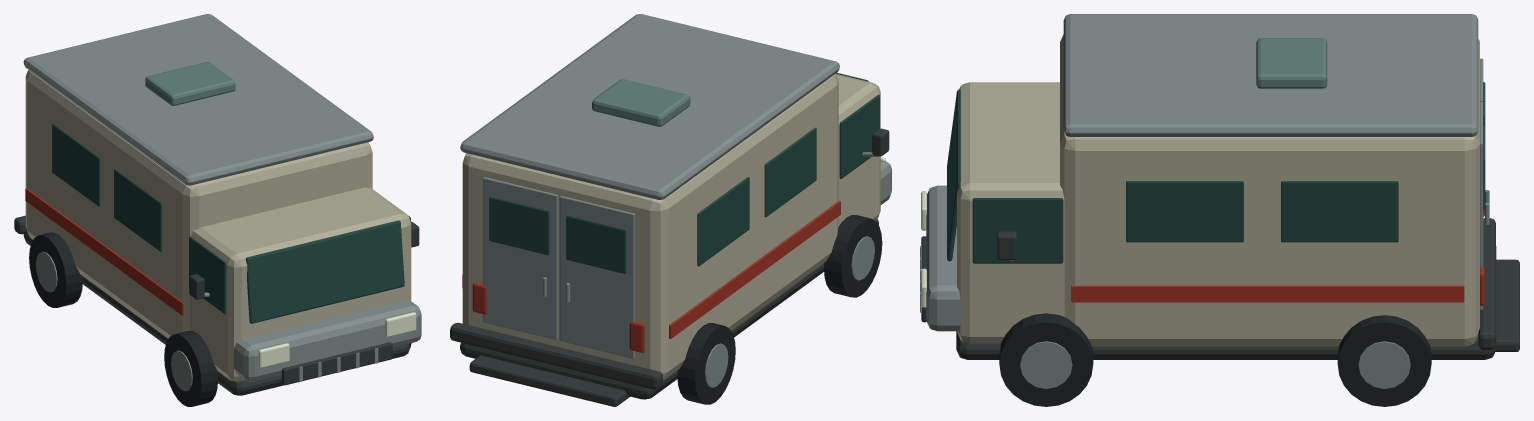
Rendered from H_CrewRV.fbx.
3 renders of one model, left to right at view 1: azimuth 30°, elevation 25°; view 2: azimuth 150°, elevation 25°; view 3: azimuth 270°, elevation 25°, orthographic. The views are drawn at different scales.
Visible parts, largest first — view 1: H_CrewRV; view 2: H_CrewRV; view 3: H_CrewRV.
Boxes of the visible parts, x1,y1,x2,y2 form: H_CrewRV: (14,14,421,406); H_CrewRV: (450,14,891,406); H_CrewRV: (920,14,1519,406).
Size of the model in its own units: 2.96 by 2.9 by 5.5.
